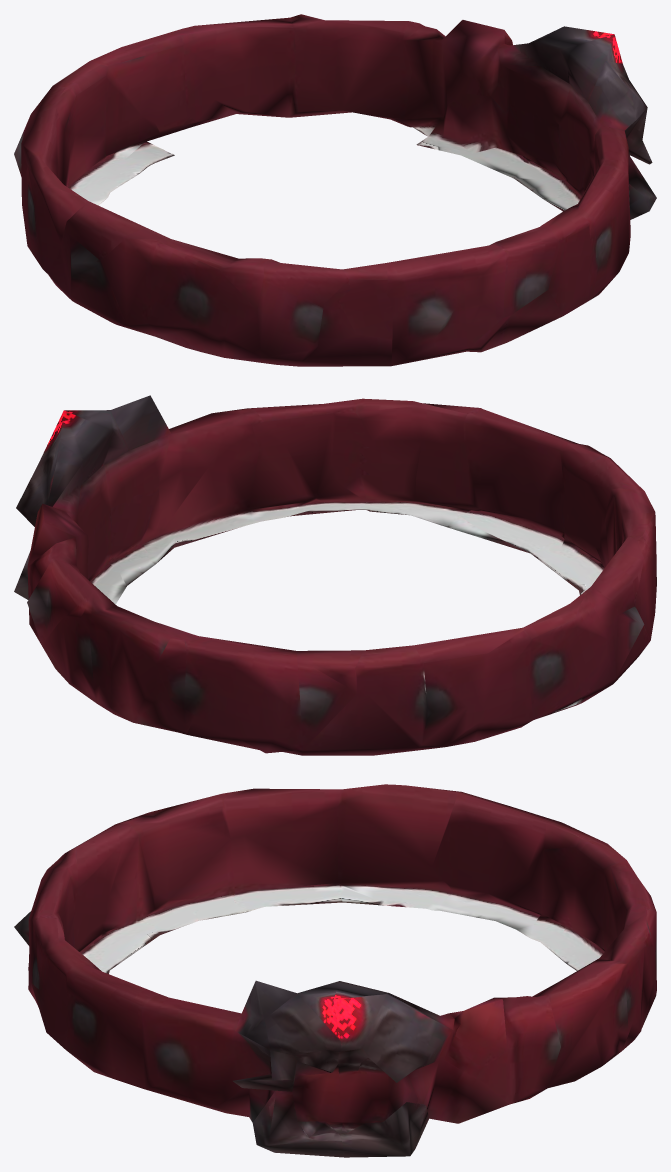
Rendered from uq_belt_devourer-B15yCVma.glb.
The picture shows the model from 3 angles, top to bottom: view 1: azimuth 30°, elevation 25°; view 2: azimuth 150°, elevation 25°; view 3: azimuth 270°, elevation 25°; orthographic projection. The views are drawn at different scales.
Visible parts, largest first — view 1: tripo_node_ff7dc91c-7bff-4150-971a-0b1706290bdf; view 2: tripo_node_ff7dc91c-7bff-4150-971a-0b1706290bdf; view 3: tripo_node_ff7dc91c-7bff-4150-971a-0b1706290bdf.
Boxes of the visible parts, x1=… form: tripo_node_ff7dc91c-7bff-4150-971a-0b1706290bdf: x1=14, y1=14, x2=656, y2=366; tripo_node_ff7dc91c-7bff-4150-971a-0b1706290bdf: x1=14, y1=395, x2=656, y2=755; tripo_node_ff7dc91c-7bff-4150-971a-0b1706290bdf: x1=14, y1=784, x2=656, y2=1157.
Size of the model in its own units: 1 by 0.2776 by 0.9836.
1 material, 1 textured.
